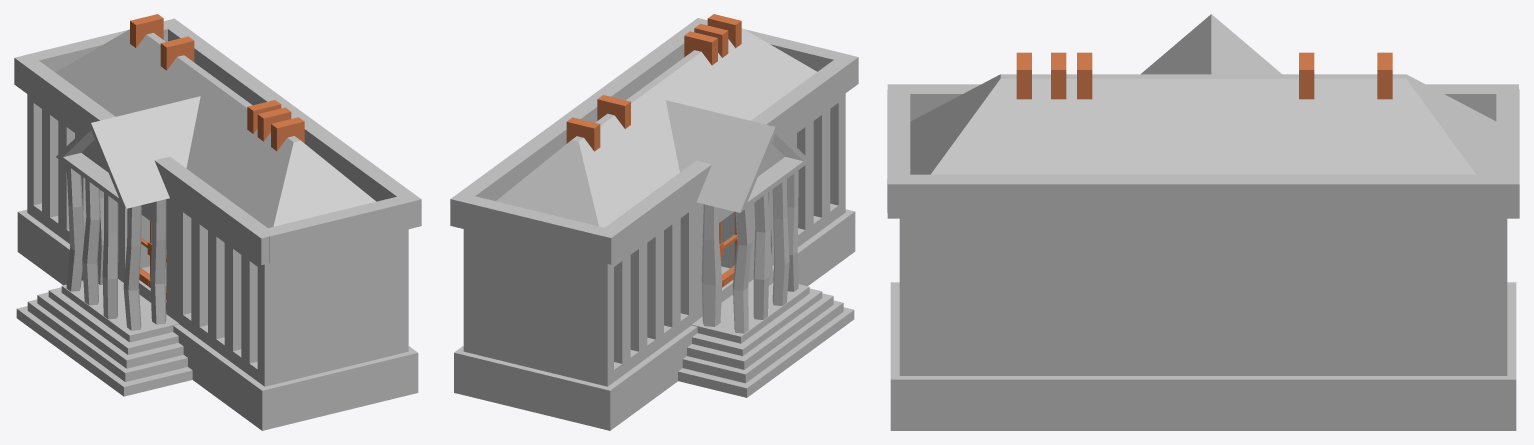
The model's file is SM_Universidad.fbx.
3 views of the same model, side by side, from view 1: azimuth 30°, elevation 25°; view 2: azimuth 150°, elevation 25°; view 3: azimuth 270°, elevation 25° (orthographic). The views are drawn at different scales.
Visible parts, largest first — view 1: Edificio, Escaleras, Columnas, Fronton, Chimenea04, Chimenea05, Chimenea01, Chimenea02, Chimenea03; view 2: Edificio, Escaleras, Columnas, Fronton, Chimenea05, Chimenea03, Chimenea04, Chimenea01, Puerta, Chimenea02; view 3: Edificio, Fronton, Chimenea05, Chimenea01, Chimenea02, Chimenea03, Chimenea04.
Boxes of the visible parts, x1,y1,x2,y2 form: Edificio: (14, 18, 421, 430); Escaleras: (16, 279, 192, 396); Columnas: (66, 165, 166, 330); Fronton: (56, 96, 200, 208); Chimenea04: (160, 36, 194, 70); Chimenea05: (130, 14, 163, 47); Chimenea01: (271, 117, 304, 150); Chimenea02: (257, 107, 291, 141); Chimenea03: (247, 100, 281, 133); Edificio: (450, 18, 858, 430); Escaleras: (678, 279, 854, 397); Columnas: (701, 170, 798, 333); Fronton: (665, 100, 810, 212); Chimenea05: (566, 117, 600, 151); Chimenea03: (684, 31, 717, 65); Chimenea04: (597, 95, 630, 128); Chimenea01: (707, 14, 741, 48); Puerta: (719, 212, 737, 287); Chimenea02: (694, 24, 728, 57); Edificio: (887, 74, 1519, 430); Fronton: (1141, 14, 1281, 74); Chimenea05: (1377, 52, 1392, 99); Chimenea01: (1016, 52, 1031, 99); Chimenea02: (1051, 52, 1066, 99); Chimenea03: (1077, 52, 1092, 99); Chimenea04: (1299, 52, 1314, 99).
Size of the model in its own units: 316 by 333 by 595.
